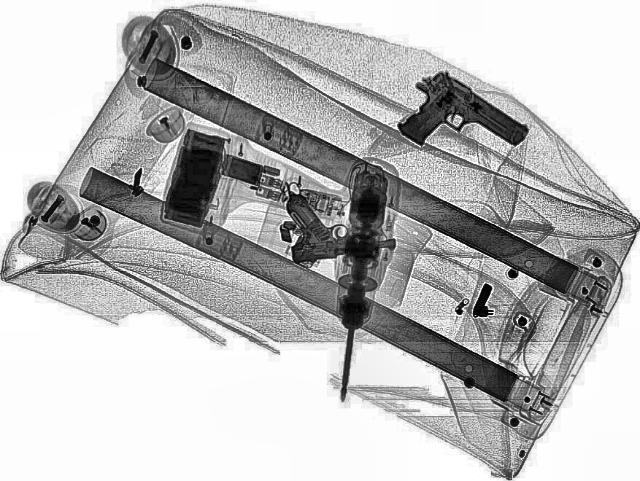Gun: (371, 66, 533, 176), (276, 184, 398, 262)
